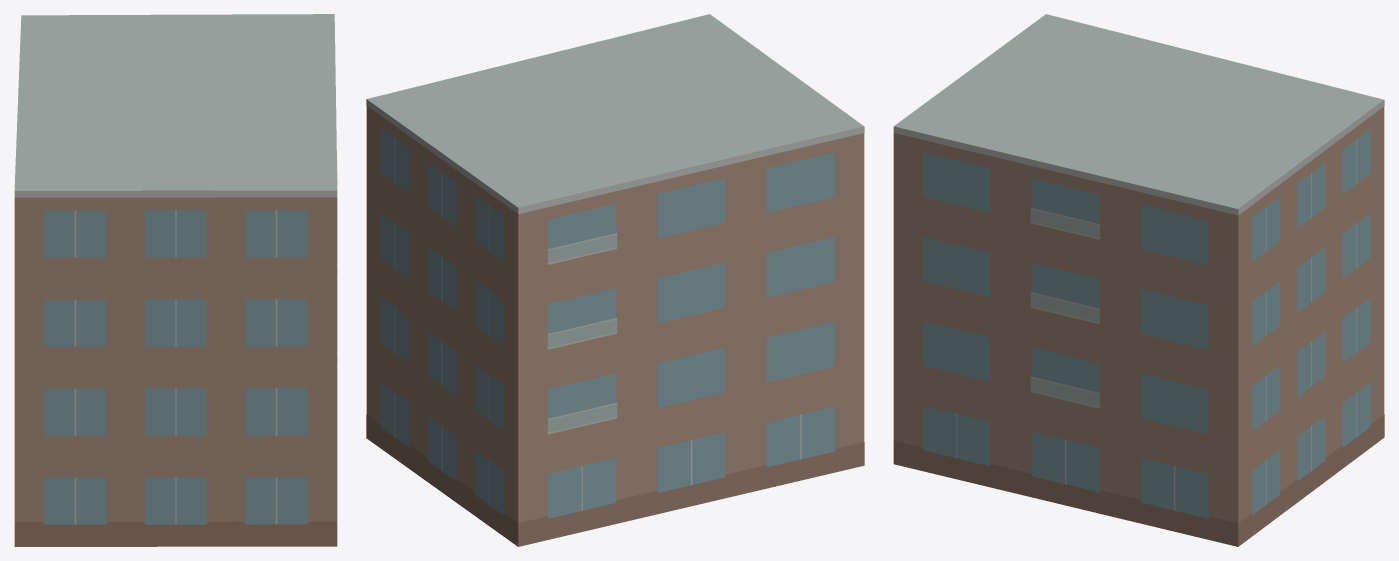
Rendered from survey-upis-32722101.glb.
The picture shows the model from 3 angles, left to right: view 1: azimuth 30°, elevation 25°; view 2: azimuth 150°, elevation 25°; view 3: azimuth 270°, elevation 25°; orthographic projection. The views are drawn at different scales.
Visible parts, largest first — view 1: survey-upis-32722101.tmp; view 2: survey-upis-32722101.tmp; view 3: survey-upis-32722101.tmp.
Part boxes in pixels (x1,y1,x2,y2): survey-upis-32722101.tmp: (14,14,337,546); survey-upis-32722101.tmp: (366,14,864,546); survey-upis-32722101.tmp: (893,14,1384,546).
Bounding box in the file's own units: 15.87 × 12.8 × 16.87.
